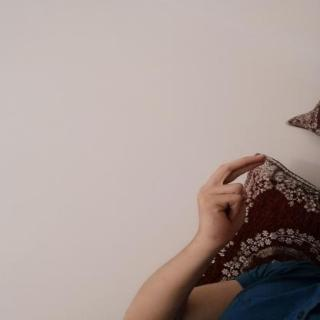ZAY: (189, 147, 274, 246)
